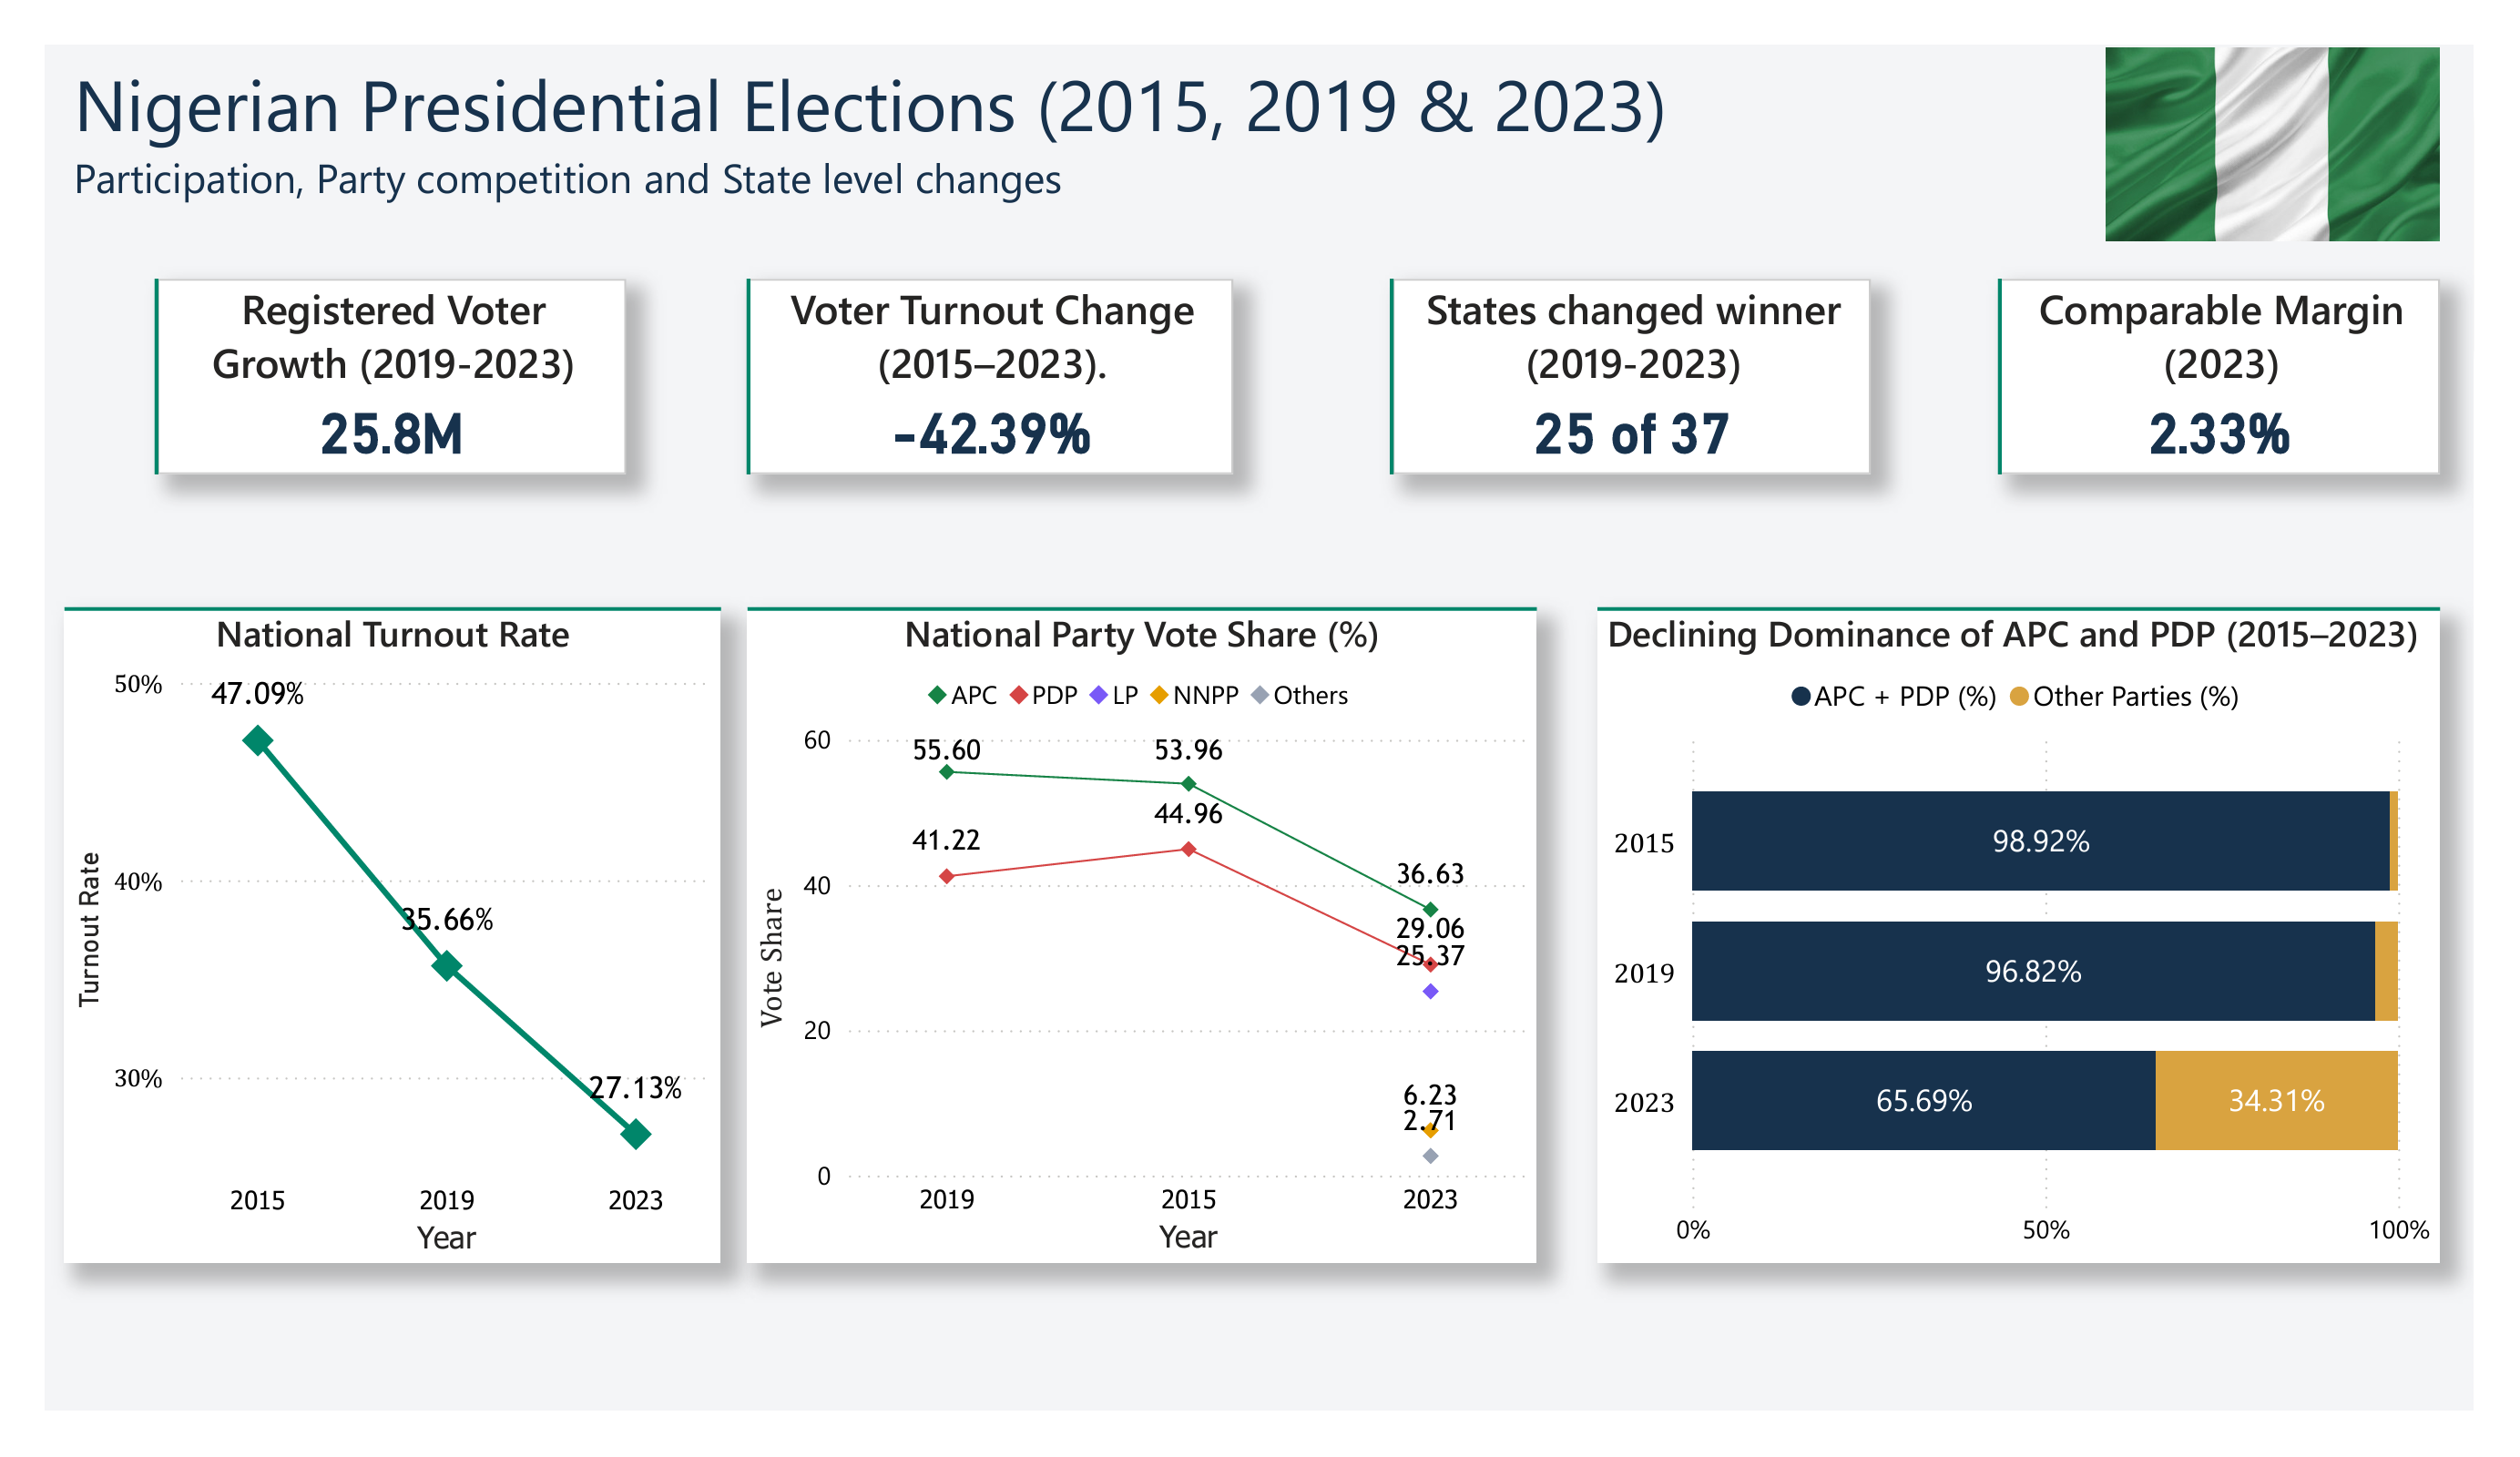

The page's visual inventory and layout, read from the dashboard file:
{"tool":"powerbi","page":{"name":"EXECUTIVE SUMMARY","canvas":[1280,720],"ordinal":0},"visuals":[{"type":"textbox","box":[10.3,0,886,69.1],"z":0},{"type":"textbox","box":[10.3,50,534.9,38.2],"z":1000},{"type":"card","title":"Registered Voter Growth (2019-2023)","fields":{"Values":["fact_state_election.Registered Voter Growth"]},"box":[58.8,123.4,246.9,102.9],"z":2000},{"type":"card","title":"Voter Turnout Change (2015–2023).","fields":{"Values":["fact_state_election.Turnout Change (%)"]},"box":[370.3,123.4,255.7,102.9],"z":3000},{"type":"card","title":"States changed winner (2019-2023)","fields":{"Values":["fact_state_election.States Changed Winner Display"]},"box":[709.7,123.4,252.7,102.9],"z":4000},{"type":"card","title":"Comparable Margin (2023)","fields":{"Values":["fact_state_election.Comparable Margin Display"]},"box":[1030,123.4,232.2,102.9],"z":5000},{"type":"lineChart","title":"National Turnout Rate","fields":{"Category":["dim_election.election_year"],"Y":["fact_state_election.National Turnout Rate"]},"box":[10.3,296.8,345.3,345.3],"z":6000},{"type":"shape","box":[44.1,123.4,29.4,102.9],"z":7000},{"type":"shape","box":[355.6,123.4,29.4,102.9],"z":8000},{"type":"shape","box":[695,123.4,29.4,102.9],"z":9000},{"type":"shape","box":[1015.3,123.4,29.4,102.9],"z":10000},{"type":"lineChart","title":"National Party Vote Share (%)","fields":{"Category":["dim_election.election_year"],"Y":["fact_party_result.National APC Share (%)","fact_party_result.National PDP Share (%)","fact_party_result.National LP Share (%)","fact_party_result.National NNPP Share (%)","fact_party_result.National Other Party Share (%)"]},"box":[370.3,296.8,415.8,345.3],"z":11000},{"type":"shape","box":[10.3,280.7,345.3,32.3],"z":12000},{"type":"shape","box":[370.3,280.7,415.8,32.3],"z":13000},{"type":"hundredPercentStackedBarChart","title":"Declining Dominance of APC and PDP (2015–2023)","fields":{"Category":["dim_election.election_year"],"Y":["fact_state_election.National APC + PDP Share (%)","fact_state_election.National Other Parties Share (%)"]},"box":[818.4,296.8,443.8,345.3],"z":14000},{"type":"shape","box":[818.4,280.7,443.8,32.3],"z":15000},{"type":"image","box":[1085.9,0,176.3,104.3],"z":16000}]}

Visuals, with their boxes on the page's 1280x720 design canvas (x1, y1, x2, y2). These are canvas units, not pixel positions in the 2520x1457 screenshot, which may show the page scaled, cropped or inside an application window:
textbox: 10,0,896,69
textbox: 10,50,545,88
"Registered Voter Growth (2019-2023)" card: 59,123,306,226
"Voter Turnout Change (2015–2023)." card: 370,123,626,226
"States changed winner (2019-2023)" card: 710,123,962,226
"Comparable Margin (2023)" card: 1030,123,1262,226
"National Turnout Rate" lineChart: 10,297,356,642
shape: 44,123,74,226
shape: 356,123,385,226
shape: 695,123,724,226
shape: 1015,123,1045,226
"National Party Vote Share (%)" lineChart: 370,297,786,642
shape: 10,281,356,313
shape: 370,281,786,313
"Declining Dominance of APC and PDP (2015–2023)" hundredPercentStackedBarChart: 818,297,1262,642
shape: 818,281,1262,313
image: 1086,0,1262,104
